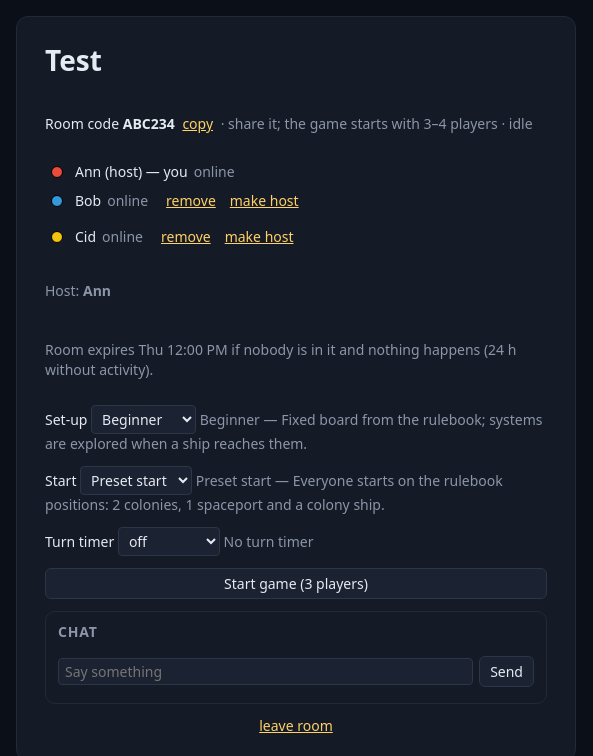
room lobby host buttons › the host gets kick and make-host per other player; clicks send kickPlayer / transferHost
This screenshot has width=593, height=756.
Expected: the button with test id "make-host-p3" is shown, [221, 227, 298, 247]
Expected: the element with test id "lobby-host" reads "Host: Ann", [45, 281, 111, 300]
Click the button with test id "kick-p2".
click(191, 201)  # box [162, 191, 220, 211]
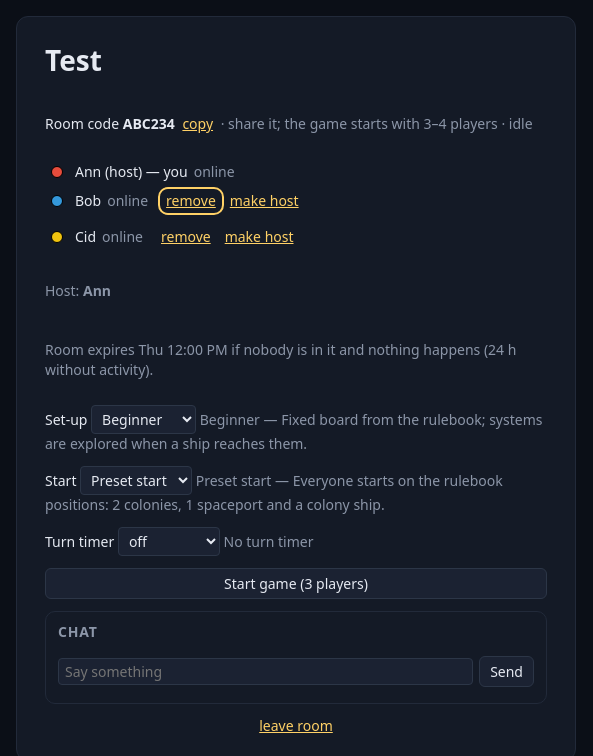
Click the button with test id "make-host-p3".
click(259, 237)  # box [221, 227, 298, 247]
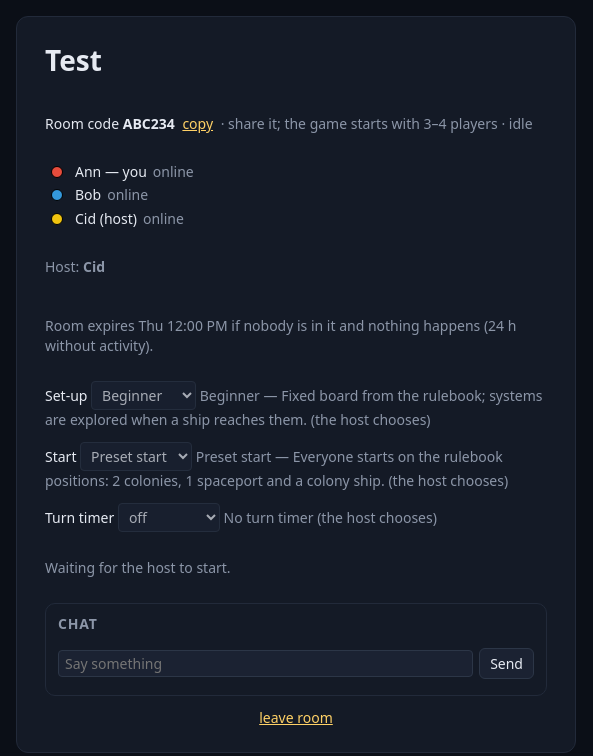
Now the button with test id "kick-p2" is gone
Now the button with test id "make-host-p2" is gone
Now the element with test id "lobby-host" reads "Host: Cid", box [45, 257, 105, 276]
